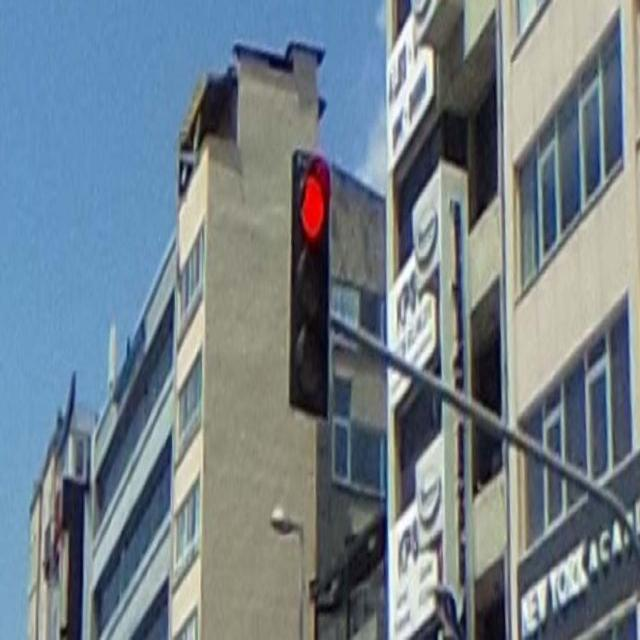kirmizi: (294, 151, 330, 410)
